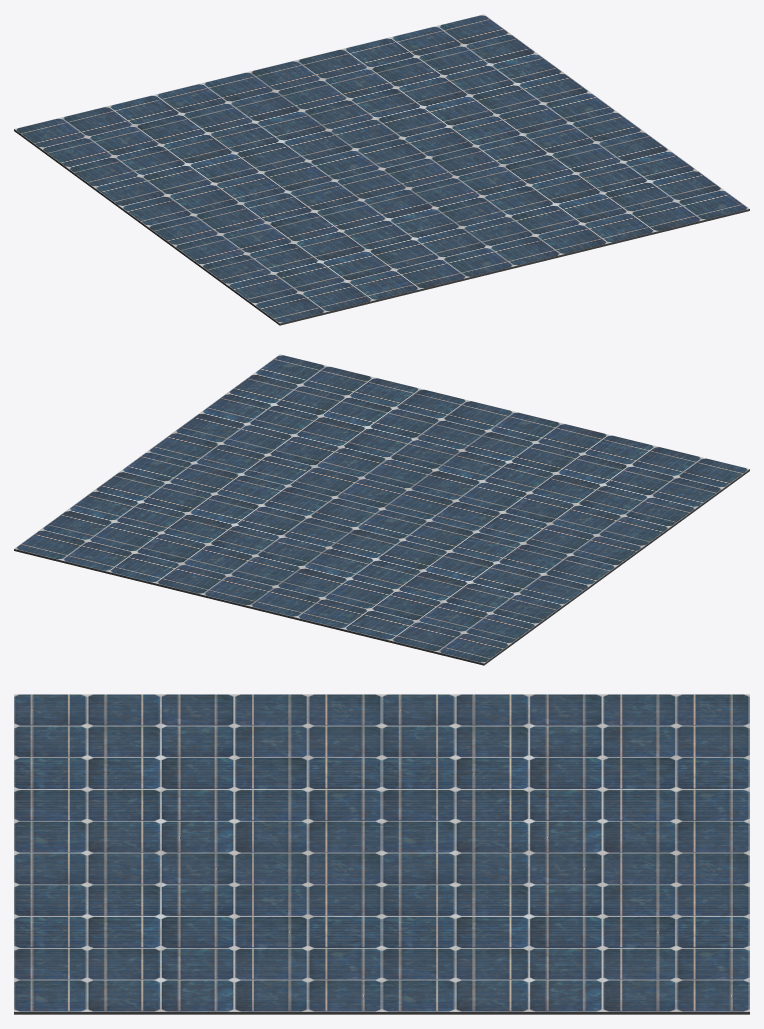
The model's file is SolarPanel_smaller.glb.
3 renders of one model, top to bottom at view 1: azimuth 30°, elevation 25°; view 2: azimuth 150°, elevation 25°; view 3: azimuth 270°, elevation 25°, orthographic. The views are drawn at different scales.
Parts seen in each view (by area): view 1: SolarPanel; view 2: SolarPanel; view 3: SolarPanel.
Part boxes in pixels (<box>): SolarPanel: <box>14,14,749,325</box>; SolarPanel: <box>14,354,749,665</box>; SolarPanel: <box>14,694,749,1014</box>.
Bounding box in the file's own units: 1.7 × 0.022 × 1.67.
Materials: 3 (1 with a texture image).
